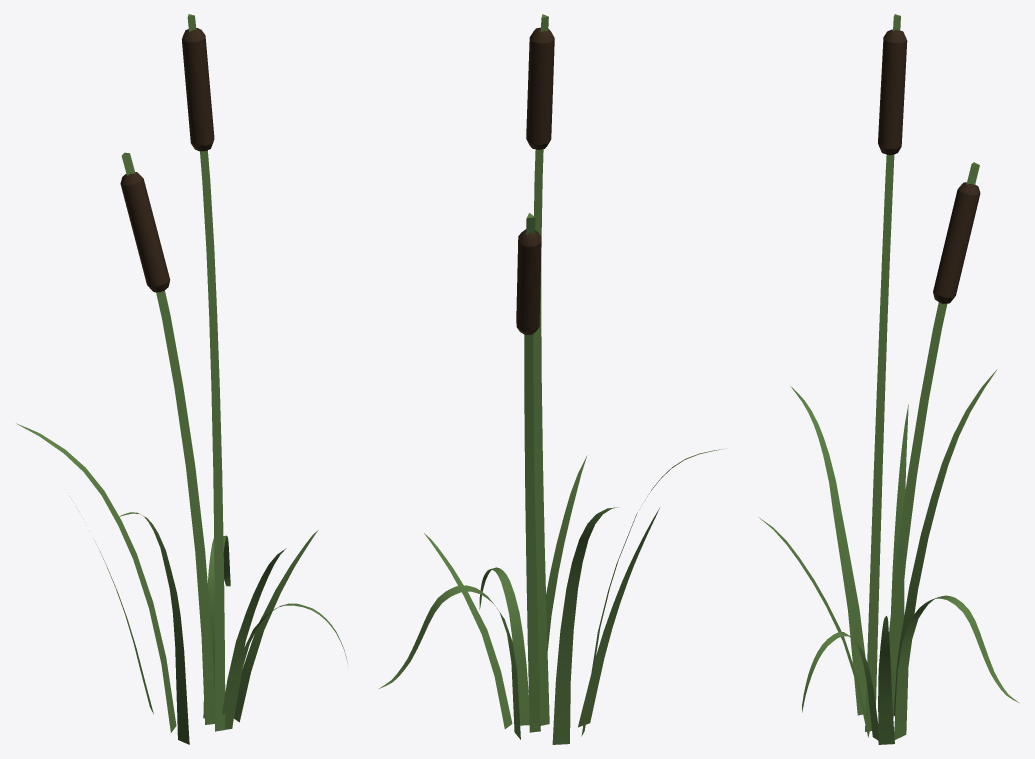
Rendered from plant_cattail_B.fbx.
3 renders of one model, left to right at view 1: azimuth 30°, elevation 25°; view 2: azimuth 150°, elevation 25°; view 3: azimuth 270°, elevation 25°, orthographic. The views are drawn at different scales.
Parts seen in each view (by area): view 1: plant_cattail_B_twig_A, plant_cattail_B_twig_B, plant_cattail_B_flower_A, plant_cattail_B_flower_B, plant_cattail_B_leaf_F, plant_cattail_B_leaf_C, plant_cattail_B_leaf_A, plant_cattail_B_leaf_G, plant_cattail_B_leaf_B; view 2: plant_cattail_B_twig_A, plant_cattail_B_twig_B, plant_cattail_B_leaf_F, plant_cattail_B_flower_A, plant_cattail_B_flower_B, plant_cattail_B_leaf_D, plant_cattail_B_leaf_E, plant_cattail_B_leaf_B, plant_cattail_B_leaf_G, plant_cattail_B_leaf_A; view 3: plant_cattail_B_twig_A, plant_cattail_B_twig_B, plant_cattail_B_leaf_C, plant_cattail_B_flower_A, plant_cattail_B_flower_B, plant_cattail_B_leaf_F, plant_cattail_B_leaf_B, plant_cattail_B_leaf_G, plant_cattail_B_leaf_E, plant_cattail_B_leaf_D, plant_cattail_B_leaf_A.
Part boxes in pixels (x1,y1,x2,y2): plant_cattail_B_twig_A: (187, 14, 225, 731); plant_cattail_B_twig_B: (121, 152, 214, 724); plant_cattail_B_flower_A: (182, 28, 214, 151); plant_cattail_B_flower_B: (120, 172, 170, 292); plant_cattail_B_leaf_F: (16, 423, 176, 732); plant_cattail_B_leaf_C: (118, 512, 189, 744); plant_cattail_B_leaf_A: (222, 548, 286, 729); plant_cattail_B_leaf_G: (234, 530, 317, 722); plant_cattail_B_leaf_B: (203, 535, 230, 718); plant_cattail_B_twig_A: (533, 14, 549, 725); plant_cattail_B_twig_B: (524, 213, 540, 732); plant_cattail_B_leaf_F: (552, 507, 618, 744); plant_cattail_B_flower_A: (526, 27, 554, 149); plant_cattail_B_flower_B: (516, 229, 541, 334); plant_cattail_B_leaf_D: (479, 567, 529, 725); plant_cattail_B_leaf_E: (578, 508, 659, 727); plant_cattail_B_leaf_B: (379, 585, 520, 739); plant_cattail_B_leaf_G: (424, 533, 512, 728); plant_cattail_B_leaf_A: (546, 455, 587, 650); plant_cattail_B_twig_A: (865, 14, 900, 731); plant_cattail_B_twig_B: (889, 162, 979, 717); plant_cattail_B_leaf_C: (790, 386, 866, 715); plant_cattail_B_flower_A: (878, 29, 907, 155); plant_cattail_B_flower_B: (933, 182, 980, 303); plant_cattail_B_leaf_F: (893, 370, 996, 715); plant_cattail_B_leaf_B: (894, 595, 1018, 739); plant_cattail_B_leaf_G: (878, 616, 894, 744); plant_cattail_B_leaf_E: (891, 404, 908, 666); plant_cattail_B_leaf_D: (802, 632, 878, 740); plant_cattail_B_leaf_A: (758, 517, 869, 737).
Size of the model in its own units: 63.67 by 172 by 58.05.
